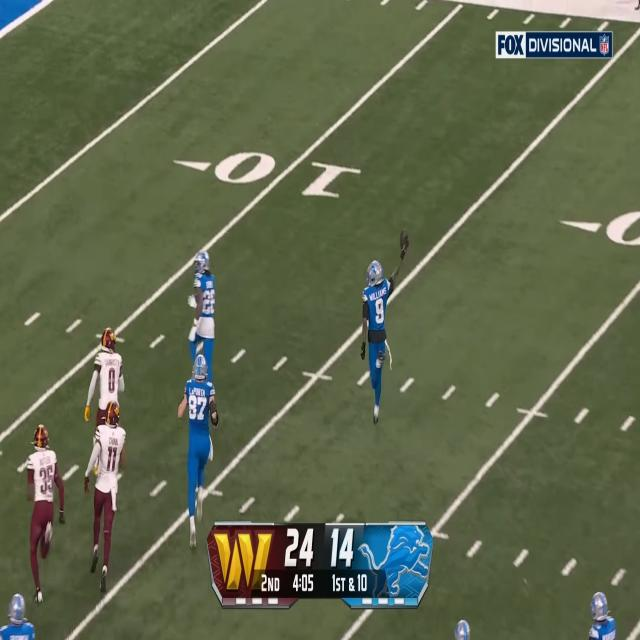Ball: (400, 227, 409, 251)
